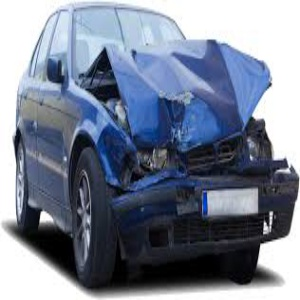bonnet: (103, 34, 265, 136)
bumper: (115, 166, 300, 251)
